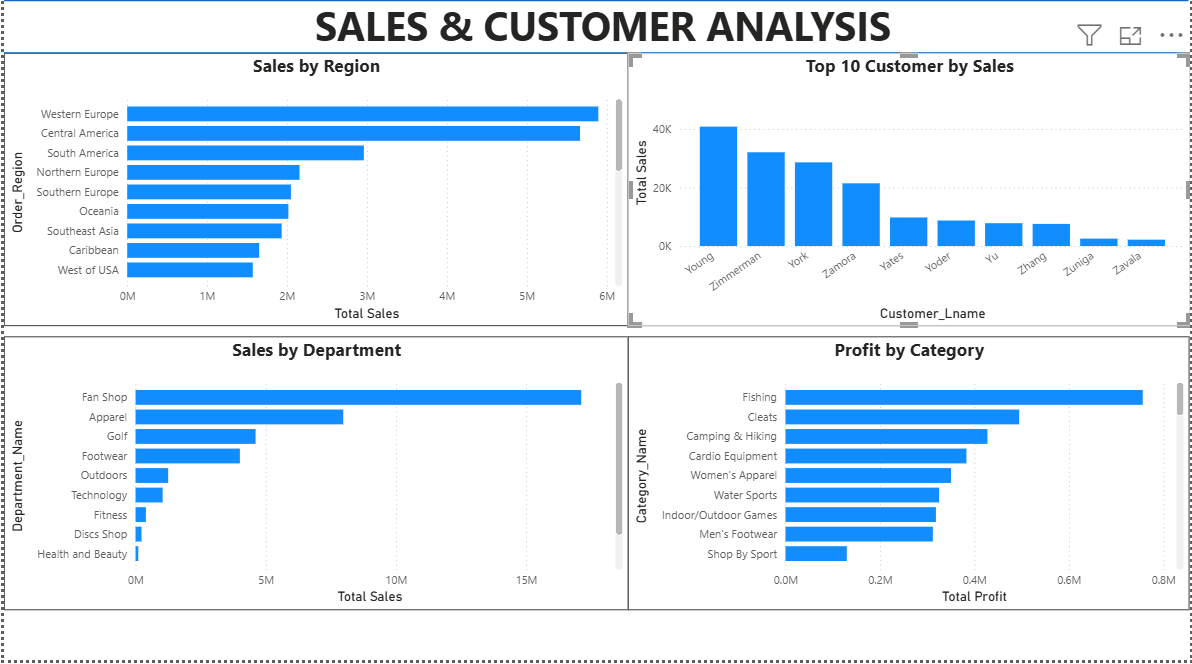

The dashboard page shown, as its layout file describes it:
{"tool":"powerbi","page":{"name":"Page 2","canvas":[1280,720],"ordinal":1},"visuals":[{"type":"textbox","box":[10.5,0,1270.2,73.7],"z":0},{"type":"shape","box":[0,0,1278.9,15.8],"z":1000},{"type":"shape","box":[0,0,1280.7,129.8],"z":2000},{"type":"clusteredBarChart","title":"Sales by Region","fields":{"Category":["DataCo_cleaned.Order_Region"],"Y":["DataCo_cleaned.Total Sales"]},"box":[0,64.9,673.7,294.7],"z":3000},{"type":"clusteredColumnChart","title":"Top 10 Customer by Sales","fields":{"Category":["DataCo_cleaned.Customer_Lname"],"Y":["DataCo_cleaned.Total Sales"]},"box":[673.7,64.9,607,294.7],"z":4000},{"type":"clusteredBarChart","title":"Sales by Department","fields":{"Y":["DataCo_cleaned.Total Sales"],"Category":["DataCo_cleaned.Department_Name"]},"box":[0,370,674,295],"z":5000},{"type":"clusteredBarChart","title":" Profit by Category","fields":{"Y":["DataCo_cleaned.Total Profit"],"Category":["DataCo_cleaned.Category_Name"]},"box":[674,370,606,295],"z":6000}]}

Visuals, with their boxes in screenshot pixels (x1, y1, x2, y2), scaled from the page's 1280x720 canvas onto the 1192x664 screenshot:
textbox: select_region(10, 0, 1191, 68)
shape: select_region(0, 0, 1191, 15)
shape: select_region(0, 0, 1191, 120)
"Sales by Region" clusteredBarChart: select_region(0, 60, 627, 332)
"Top 10 Customer by Sales" clusteredColumnChart: select_region(627, 60, 1191, 332)
"Sales by Department" clusteredBarChart: select_region(0, 341, 628, 613)
" Profit by Category" clusteredBarChart: select_region(628, 341, 1191, 613)
